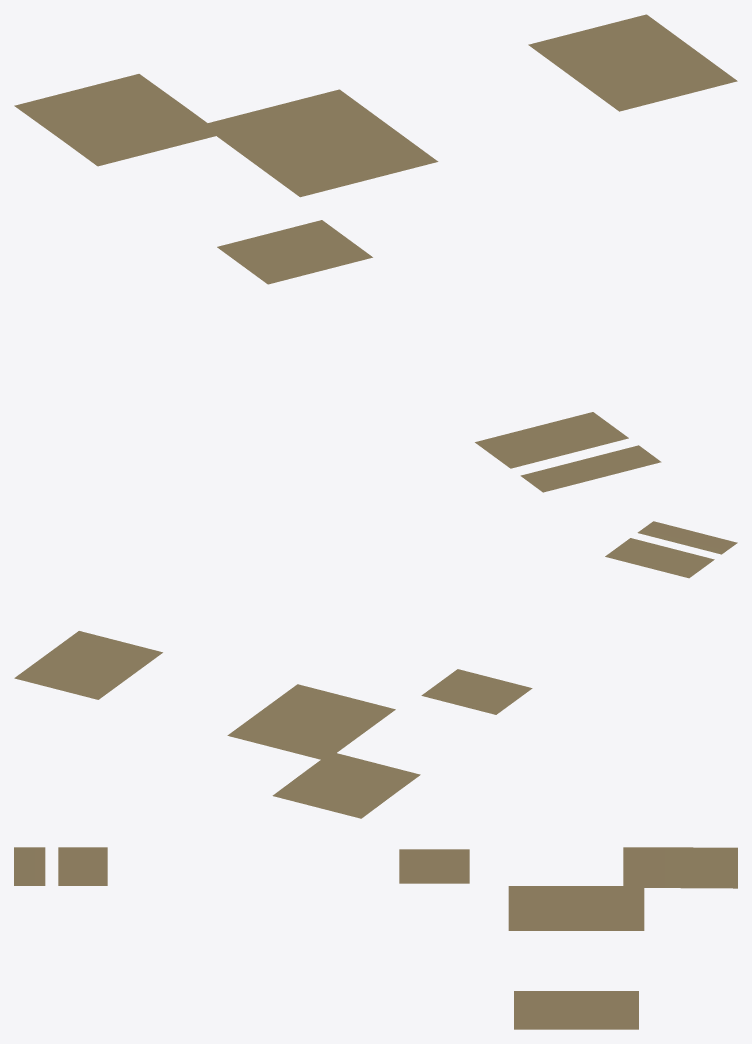
File: SM_Edo_Town_FieldSoil.fbx
3 renders of one model, top to bottom at view 1: azimuth 30°, elevation 25°; view 2: azimuth 150°, elevation 25°; view 3: azimuth 270°, elevation 25°, orthographic. The views are drawn at different scales.
Visible parts, largest first — view 1: SM_Edo_Town_FieldSoil; view 2: SM_Edo_Town_FieldSoil; view 3: SM_Edo_Town_FieldSoil.
Boxes of the visible parts, x1,y1,x2,y2 form: SM_Edo_Town_FieldSoil: (14, 14, 737, 492); SM_Edo_Town_FieldSoil: (14, 521, 737, 818); SM_Edo_Town_FieldSoil: (14, 847, 737, 1029).
Size of the model in its own units: 170 by 2.22 by 278.
